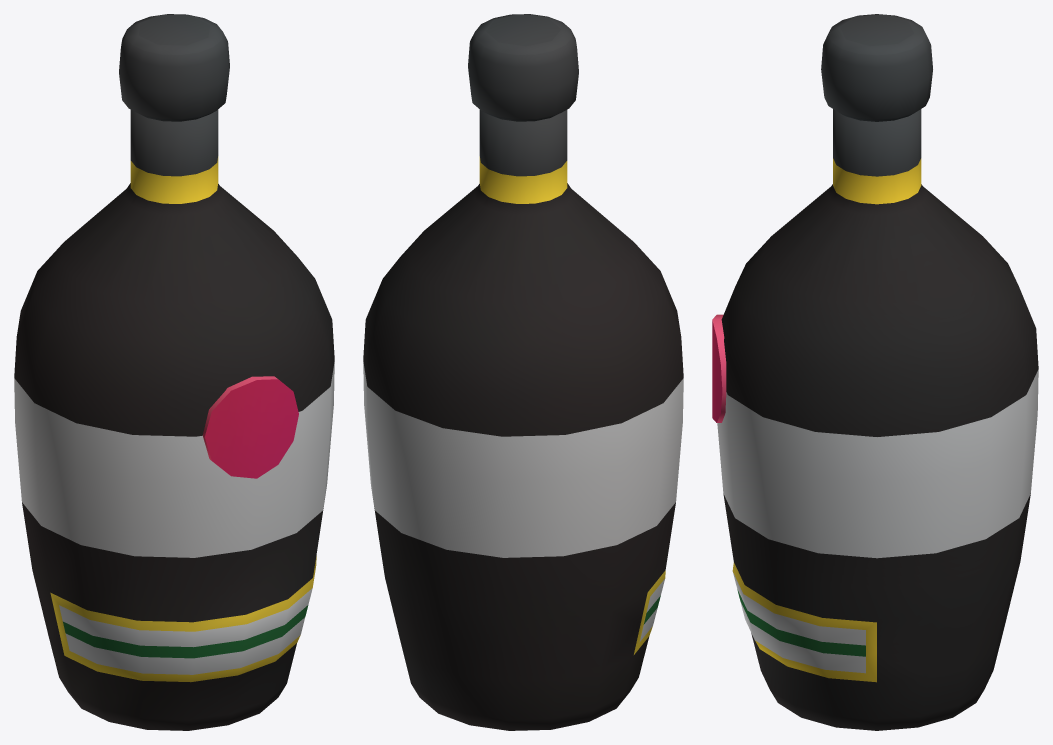
Rendered from bottle_017.fbx.
3 renders of one model, left to right at view 1: azimuth 30°, elevation 25°; view 2: azimuth 150°, elevation 25°; view 3: azimuth 270°, elevation 25°, orthographic.
Visible parts, largest first — view 1: bottle_017; view 2: bottle_017; view 3: bottle_017.
Part boxes in pixels (x1,y1,x2,y2): bottle_017: [14, 14, 334, 730]; bottle_017: [363, 14, 683, 730]; bottle_017: [712, 14, 1038, 730].
Bounding box in the file's own units: 11.6 × 11.72 × 26.19.
